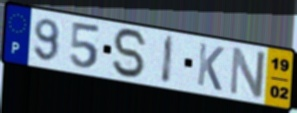5: (68, 22, 103, 70)
9: (31, 17, 64, 63)
I: (160, 34, 176, 87)
K: (195, 41, 226, 94)
N: (227, 45, 268, 101)
S: (111, 27, 150, 81)
